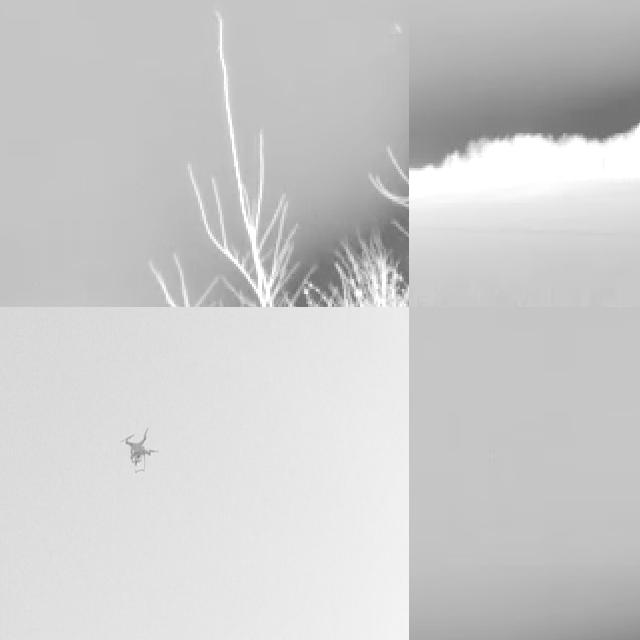0: (381, 15, 409, 45)
drone: (121, 424, 162, 471)
